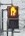stop: (8, 6, 19, 18)
